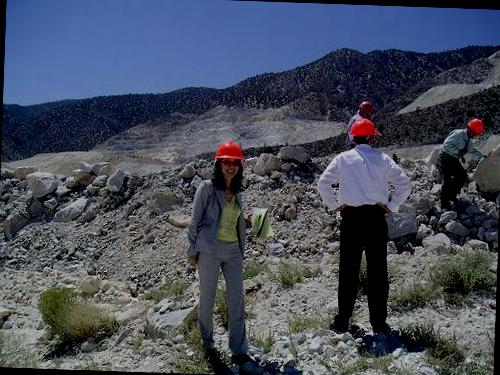person: (181, 138, 270, 362), (312, 118, 403, 334), (432, 113, 489, 210)
